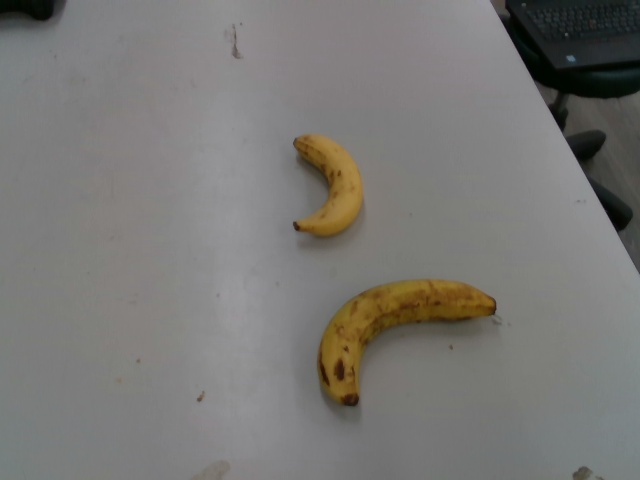banana: (319, 277, 496, 410), (289, 135, 367, 240)
